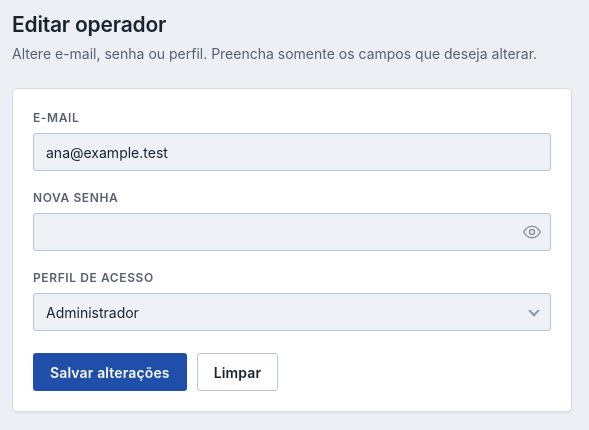
Test: EditOperatorPage: abertura e envio parcial › envia apenas a senha quando só a senha foi digitada
Type "nova-senha-123" into the password field labelled "Nova senha".
click(292, 232); type("nova-senha-123")  # box [33,213,551,251]
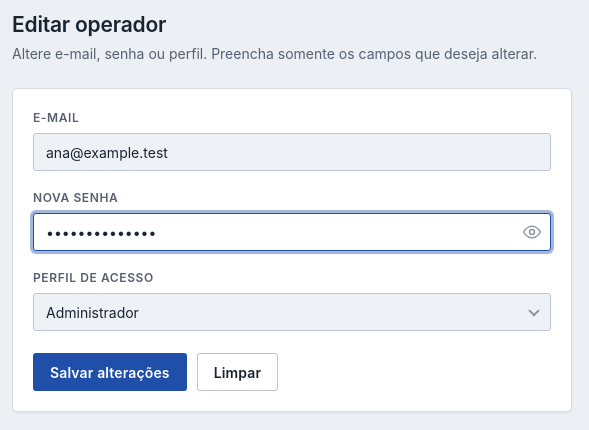
Click the button "Salvar alterações".
click(110, 372)  # box [33,353,187,391]
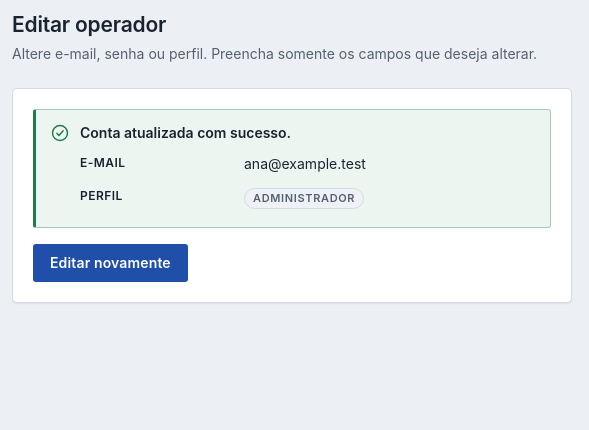
Expected: the text "Conta atualizada com sucesso." is shown, [80,124,291,141]
